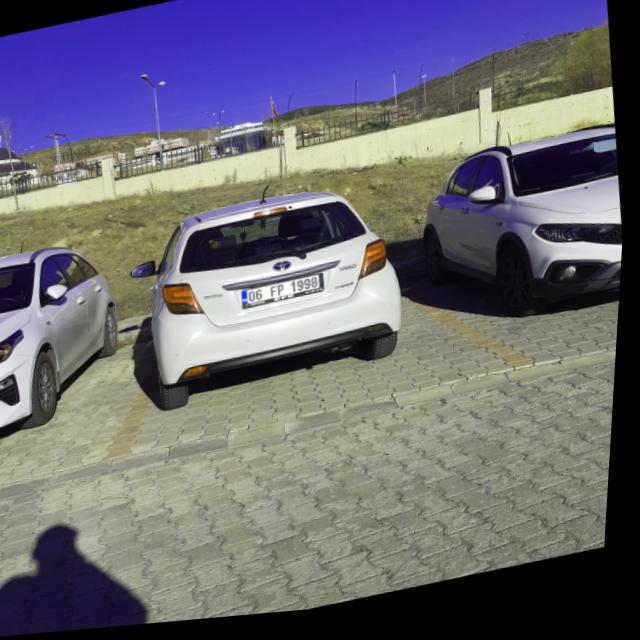license_plate: (245, 280, 327, 309)
